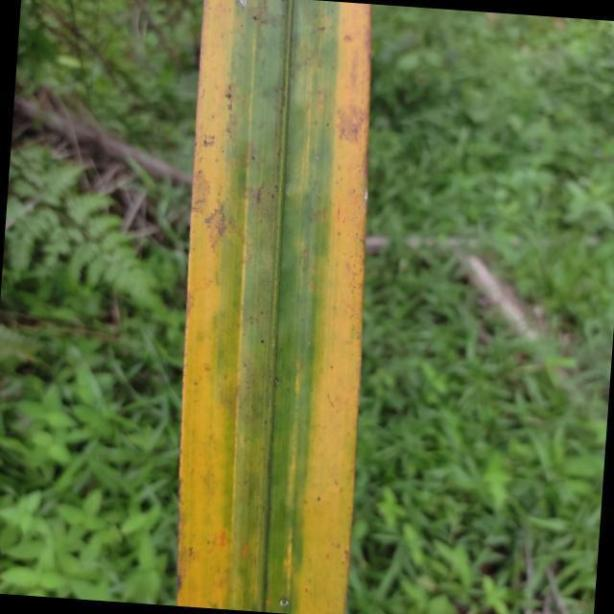Megnesium: (178, 0, 372, 614)
